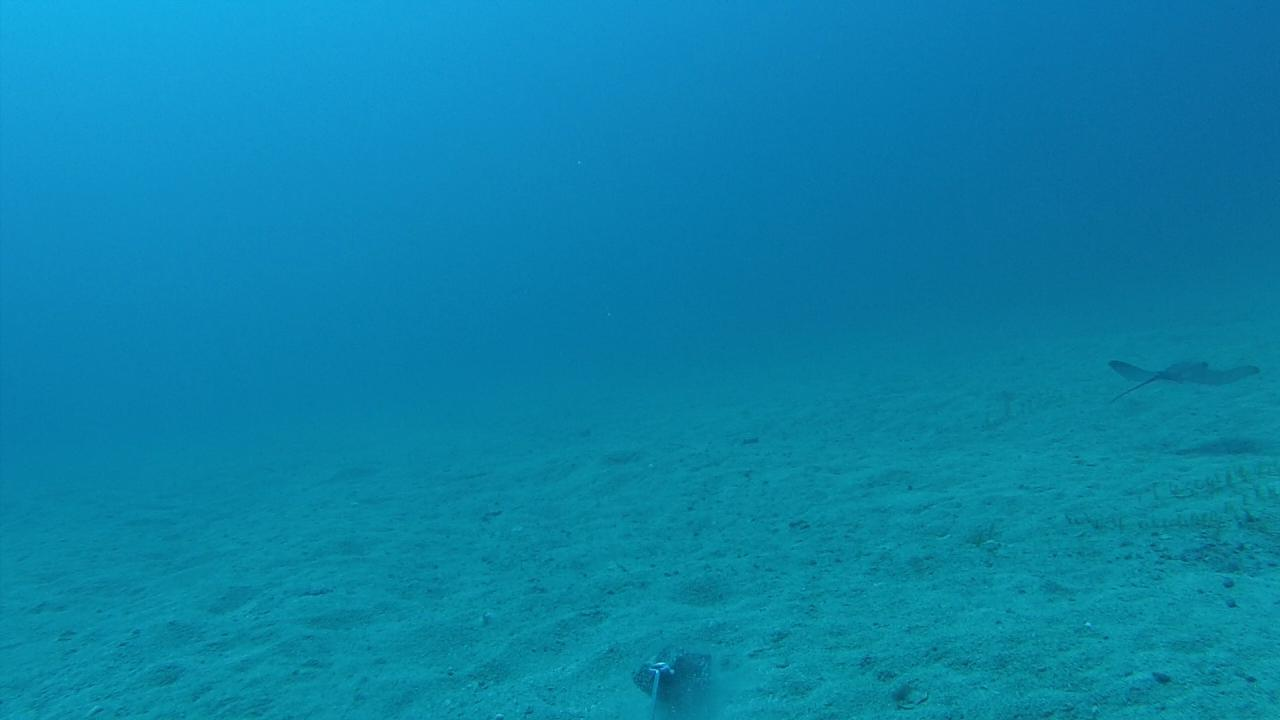dasyatis: (1105, 356, 1266, 408)
